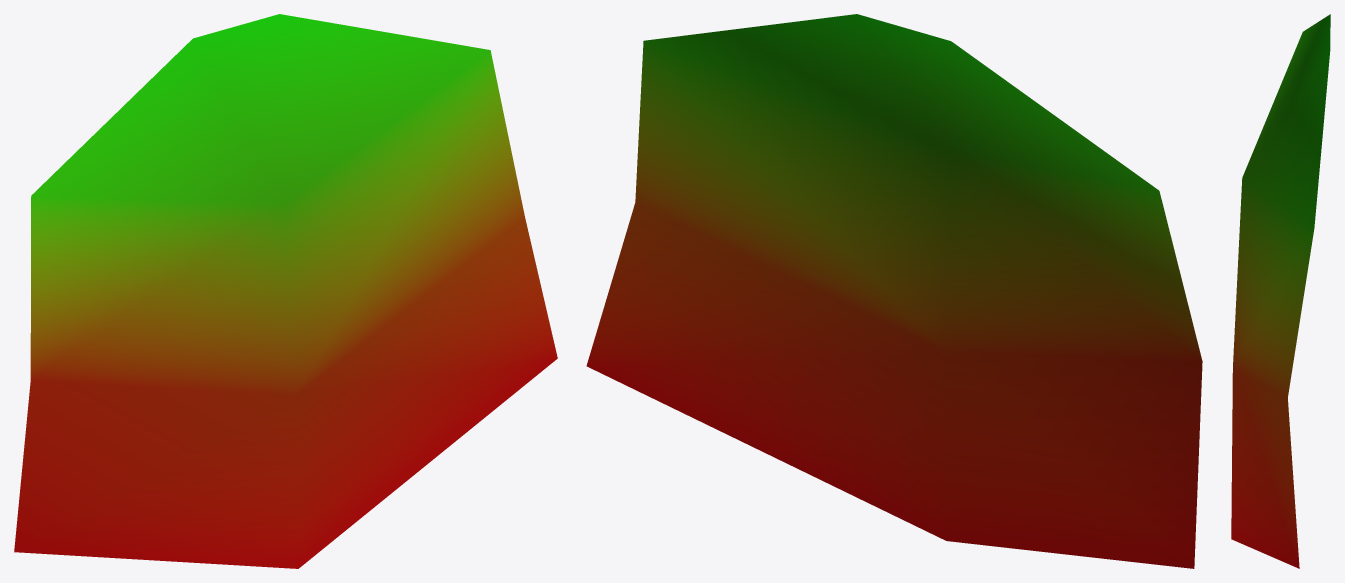
File: Var6_LOD6.fbx
3 views of the same model, side by side, from view 1: azimuth 30°, elevation 25°; view 2: azimuth 150°, elevation 25°; view 3: azimuth 270°, elevation 25° (orthographic). The views are drawn at different scales.
Visible parts, largest first — view 1: _0sm2_Var6_LOD6; view 2: _0sm2_Var6_LOD6; view 3: _0sm2_Var6_LOD6.
Part boxes in pixels (x1,y1,x2,y2): _0sm2_Var6_LOD6: (14,14,557,568); _0sm2_Var6_LOD6: (586,14,1202,568); _0sm2_Var6_LOD6: (1231,14,1330,568).
Bounding box in the file's own units: 113 × 100 × 17.99.
